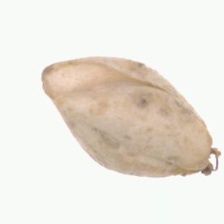L1: (40, 57, 124, 97), (190, 142, 220, 177)
L2: (41, 57, 220, 179)
